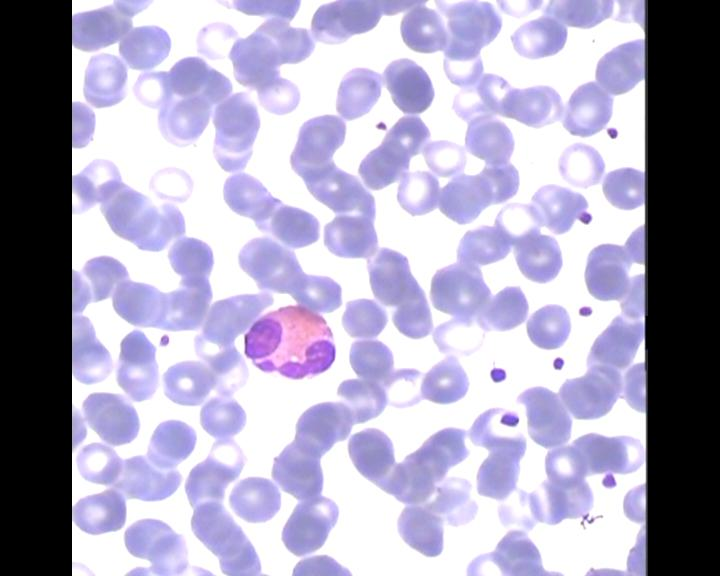eosi: (240, 301, 339, 382)
